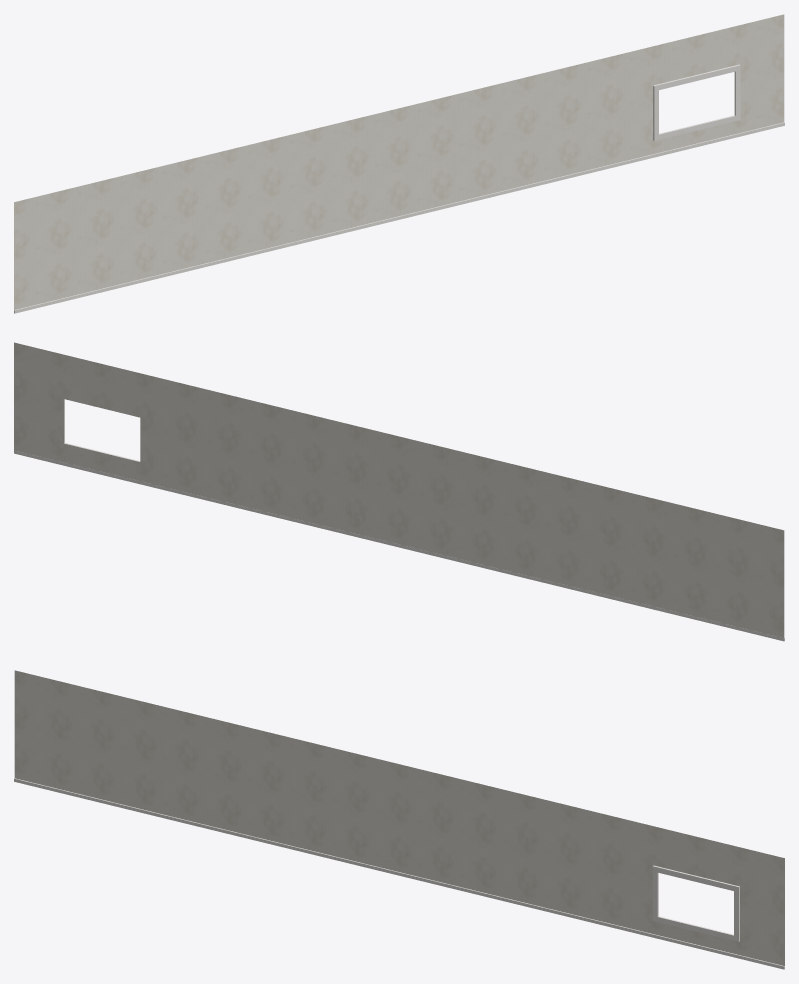
3 renders of one model, top to bottom at view 1: azimuth 30°, elevation 25°; view 2: azimuth 150°, elevation 25°; view 3: azimuth 330°, elevation 25°, orthographic.
Visible parts, largest first — view 1: jx_wm_36_65279fb3; view 2: jx_wm_36_65279fb3; view 3: jx_wm_36_65279fb3.
Boxes of the visible parts, bbox=[...] form: jx_wm_36_65279fb3: bbox=[14, 14, 784, 313]; jx_wm_36_65279fb3: bbox=[14, 342, 784, 641]; jx_wm_36_65279fb3: bbox=[14, 670, 784, 969].
Bounding box in the file's own units: 36.3 × 5 × 0.086.
2 materials, 2 textured.
